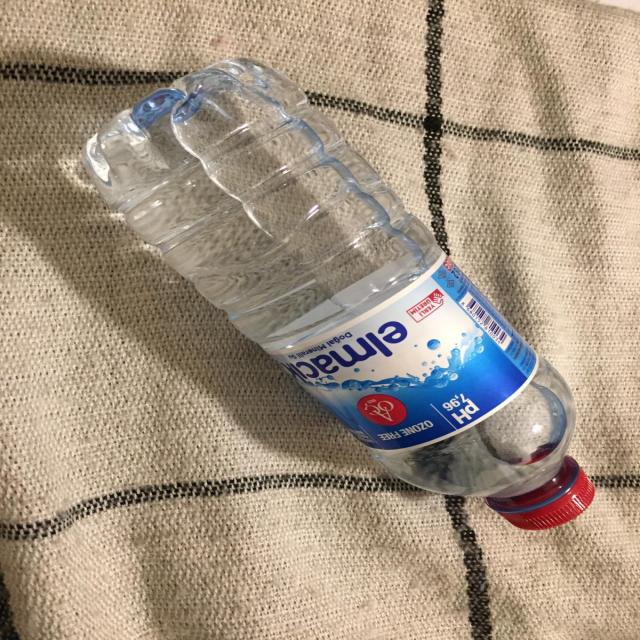bottle: (75, 35, 622, 552)
